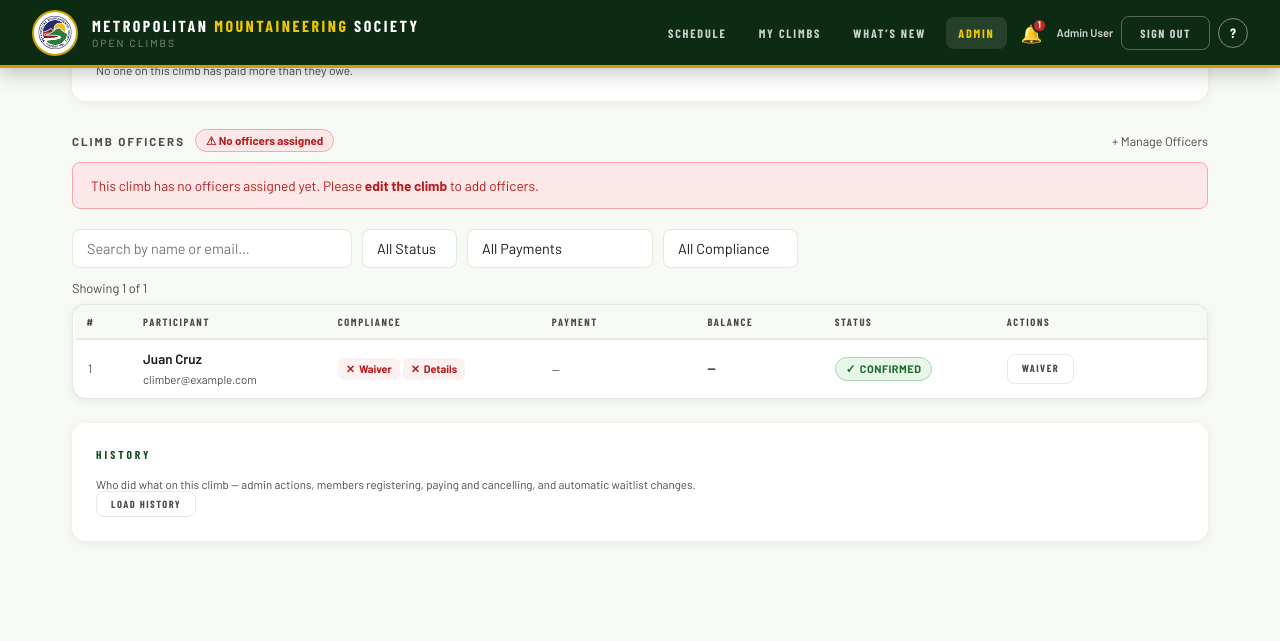
it: Admin ClimbDetail › does not offer no-show before the climb has happened
(page scrolled)
Step 1. Click the text "Juan Cruz" → (172, 360), box [143, 350, 202, 370]
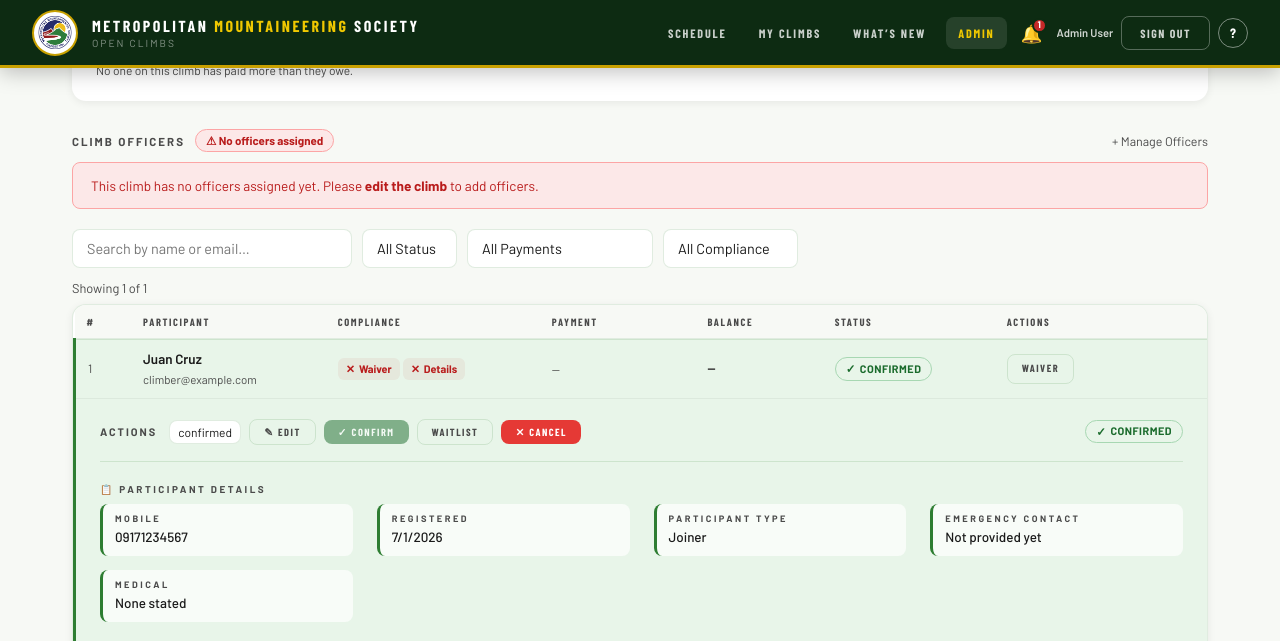
Now the button "✎ Edit" is shown, box [249, 419, 316, 445]
